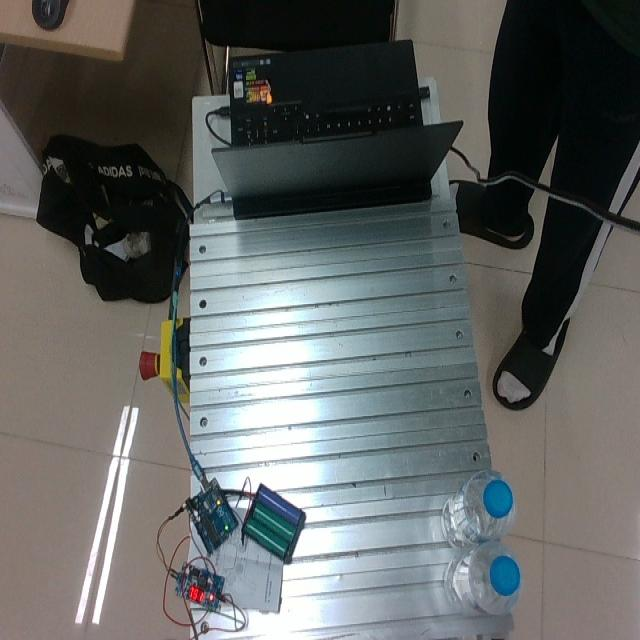lavie: (443, 539, 522, 616), (440, 468, 517, 547)
